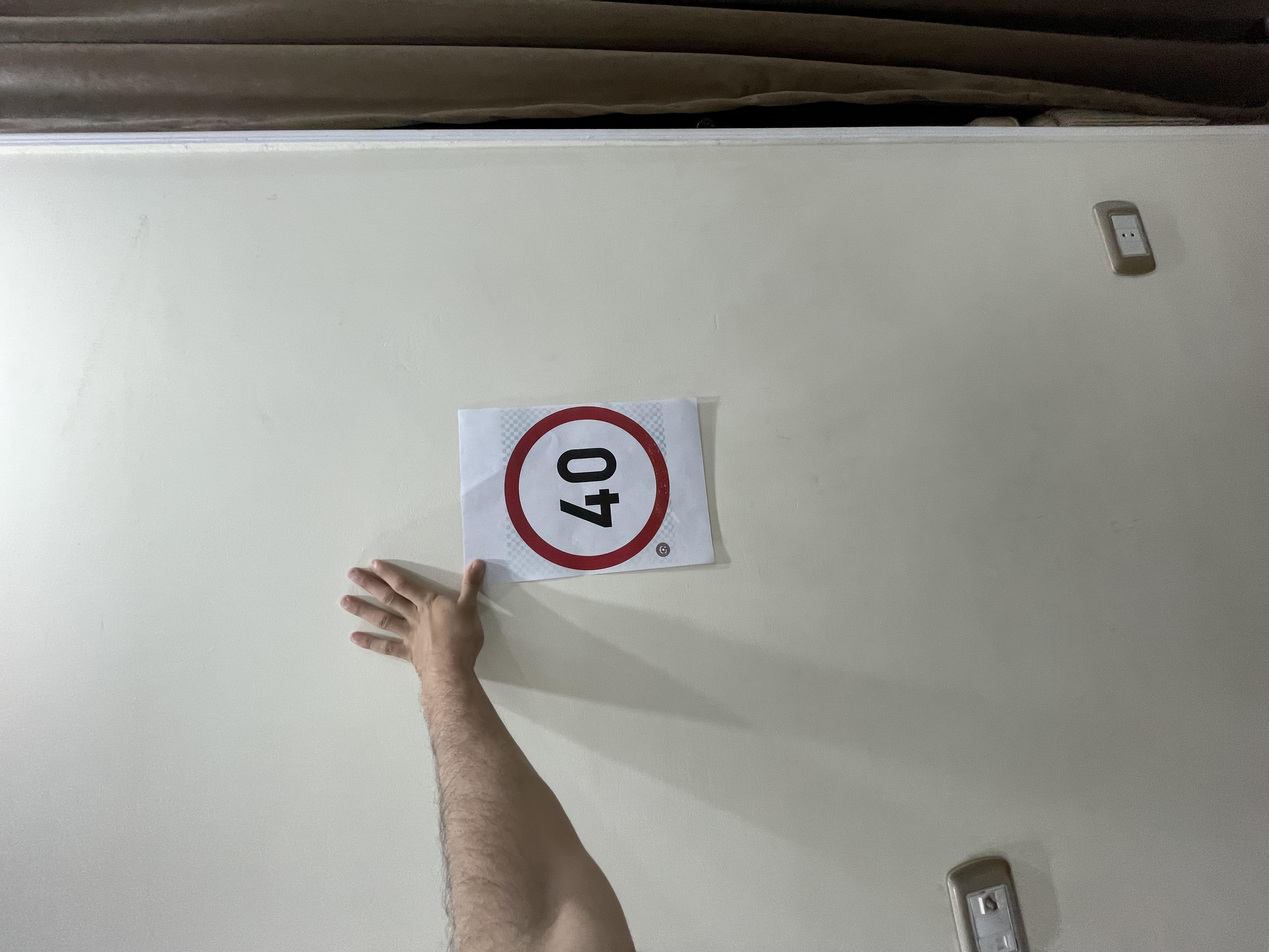40-Speed: (506, 379, 735, 505)
